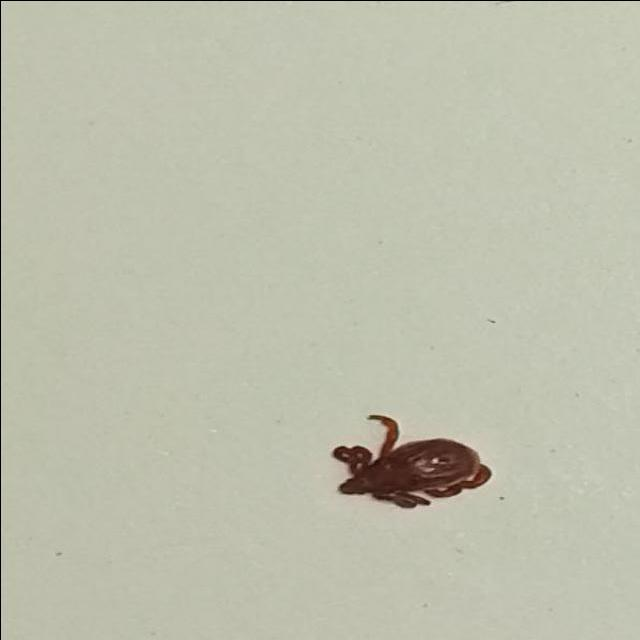Rhipicephalus Sanguineus-M: (329, 414, 494, 510)
